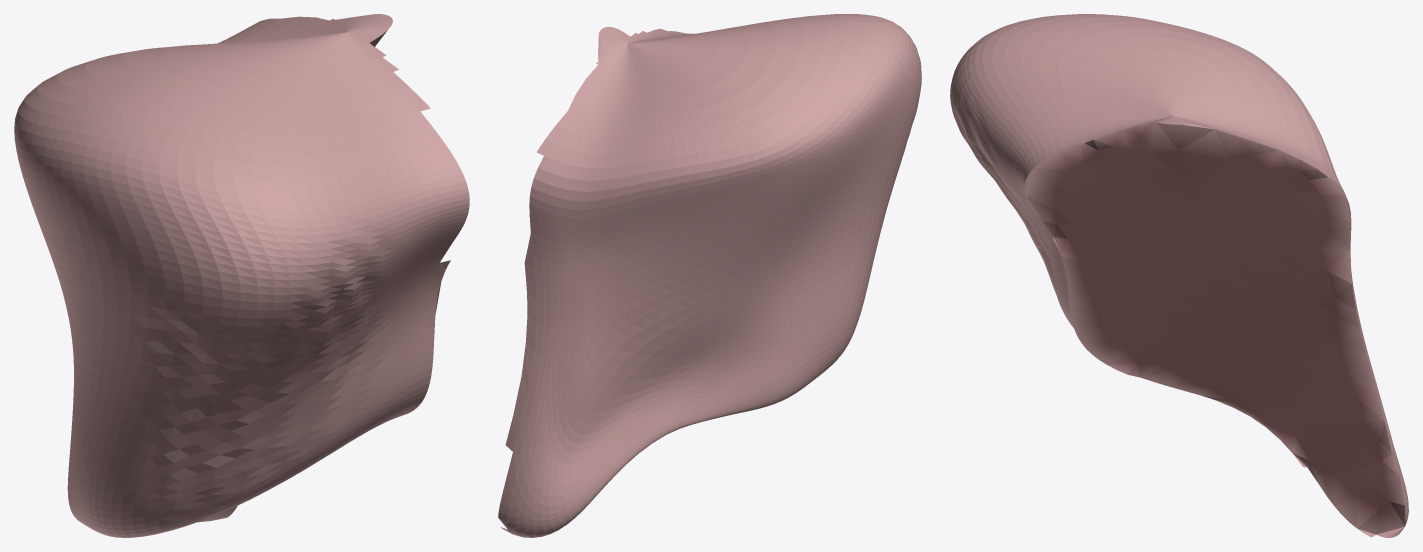
File: Midbrain.obj
The picture shows the model from 3 angles, left to right: view 1: azimuth 30°, elevation 25°; view 2: azimuth 150°, elevation 25°; view 3: azimuth 270°, elevation 25°; orthographic projection. The views are drawn at different scales.
Visible parts, largest first — view 1: obj0; view 2: obj0; view 3: obj0.
Part boxes in pixels (x1=…): obj0: x1=14, y1=14, x2=469, y2=537; obj0: x1=498, y1=14, x2=921, y2=537; obj0: x1=950, y1=14, x2=1408, y2=537.
Bounding box in the file's own units: 15.64 × 25.4 × 24.41.
1 material, 1 textured.
